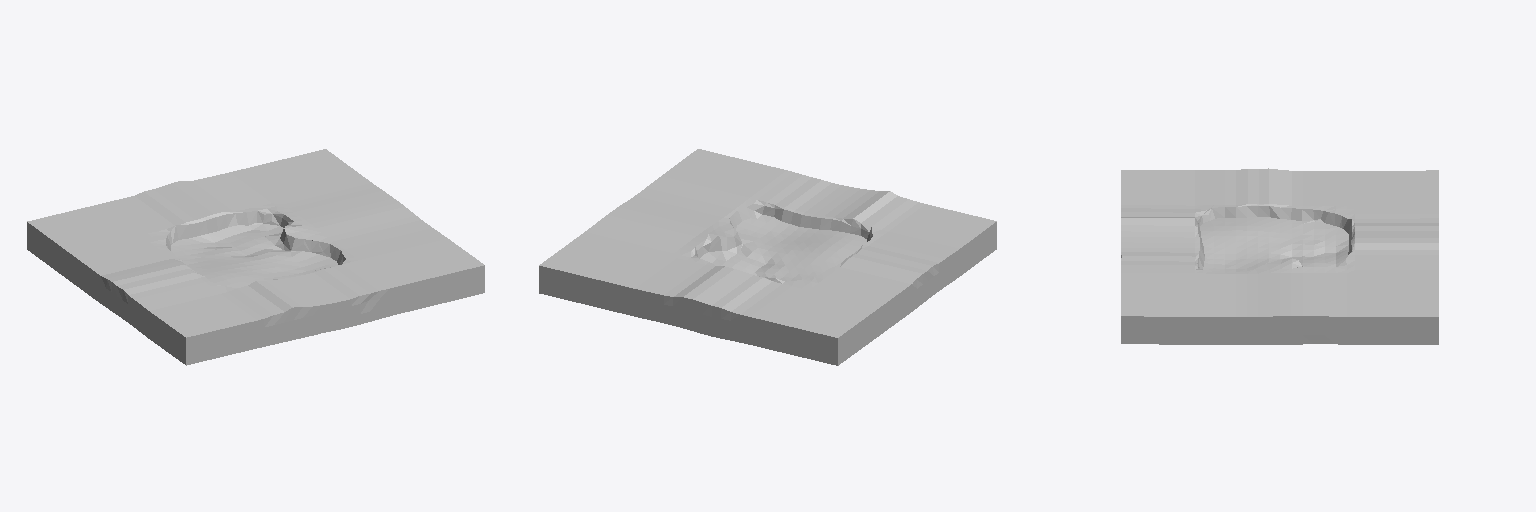
The model's file is Map.obj.
3 views of the same model, side by side, from view 1: azimuth 30°, elevation 25°; view 2: azimuth 150°, elevation 25°; view 3: azimuth 270°, elevation 25° (orthographic).
Visible parts, largest first — view 1: Plane; view 2: Plane; view 3: Plane.
Boxes of the visible parts, box(x1,y1,x2,y2) form: Plane: box(27, 149, 484, 365); Plane: box(539, 149, 996, 365); Plane: box(1121, 168, 1438, 344).
Bounding box in the file's own units: 340 × 37.34 × 313.